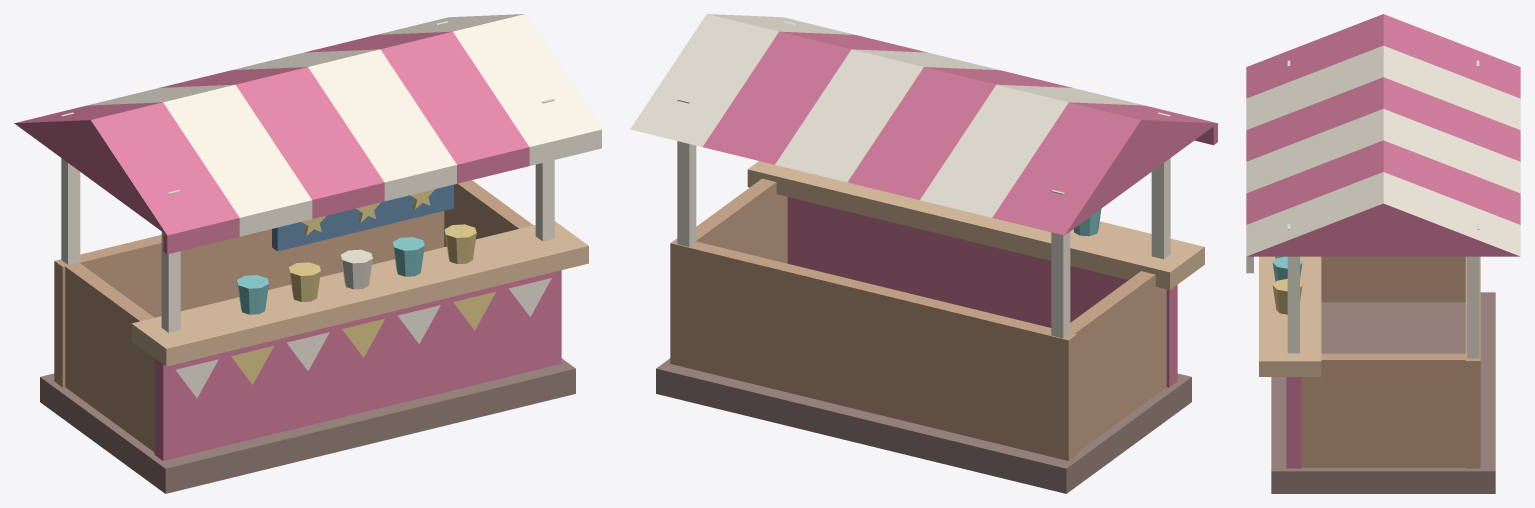
Rendered from puesto_feria.glb.
3 views of the same model, side by side, from view 1: azimuth 30°, elevation 25°; view 2: azimuth 150°, elevation 25°; view 3: azimuth 270°, elevation 25° (orthographic). The views are drawn at different scales.
Visible parts, largest first — view 1: puesto_feria; view 2: puesto_feria; view 3: puesto_feria.
Part boxes in pixels (box(x1,y1,x2,y2)): puesto_feria: box(14, 14, 601, 493); puesto_feria: box(630, 14, 1217, 493); puesto_feria: box(1246, 14, 1520, 493).
Bounding box in the file's own units: 3.6 × 2.62 × 2.2.
